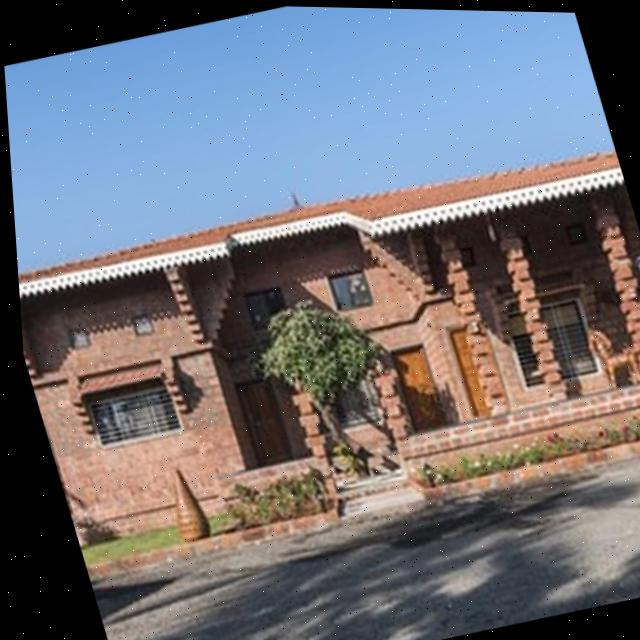building: (8, 127, 640, 590)
